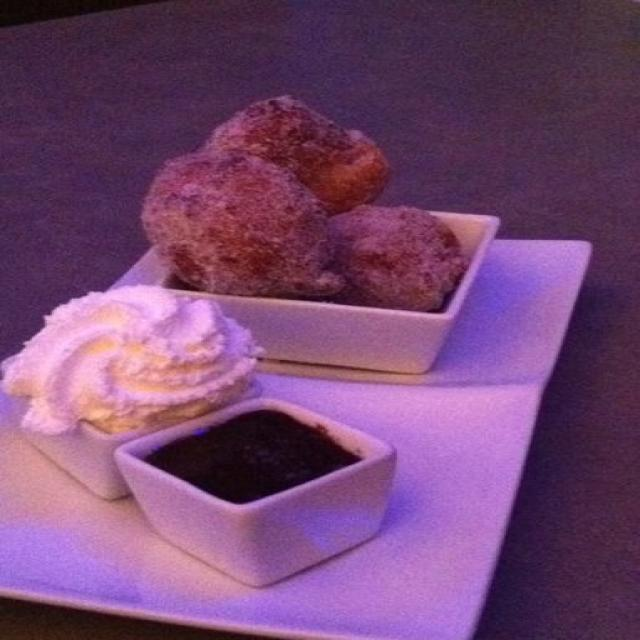Donuts: (122, 89, 484, 315)
